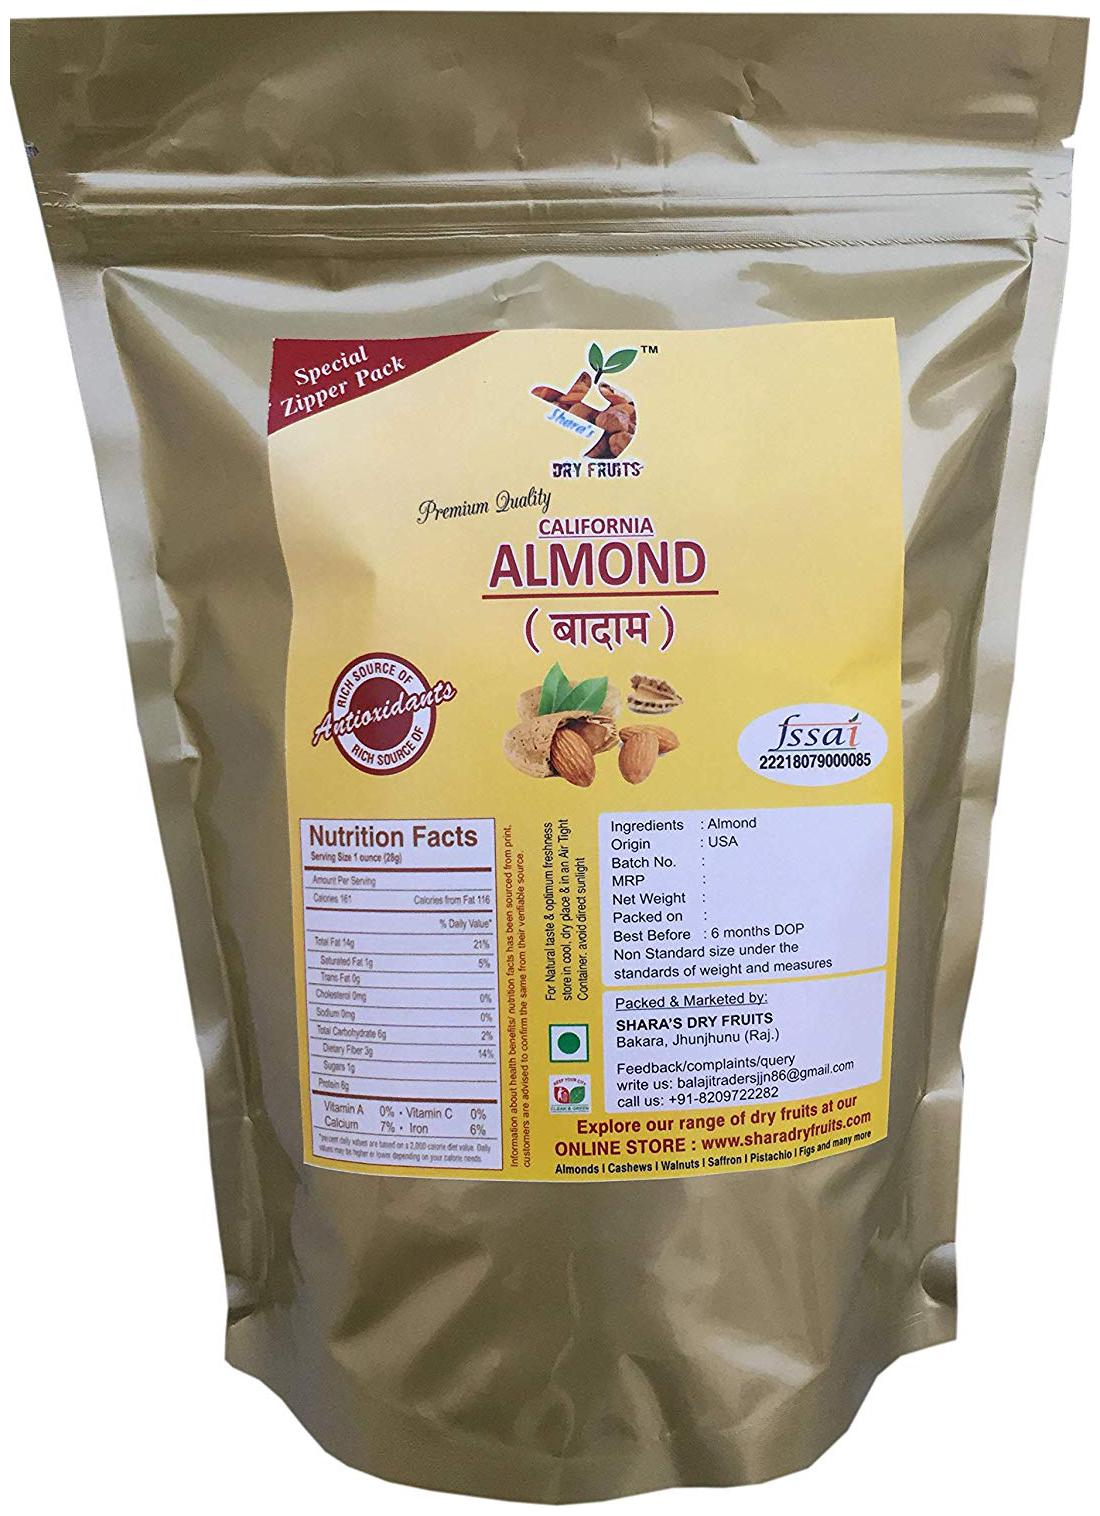fssai: (768, 714, 861, 751)
